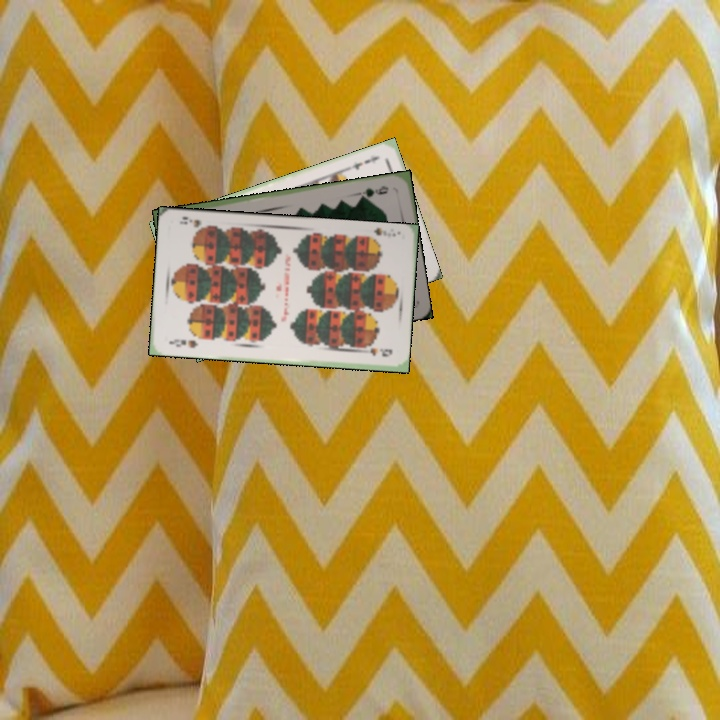E7: (345, 152, 382, 173)
G9: (355, 182, 391, 201)
S9: (165, 335, 200, 351), (370, 225, 398, 240)
